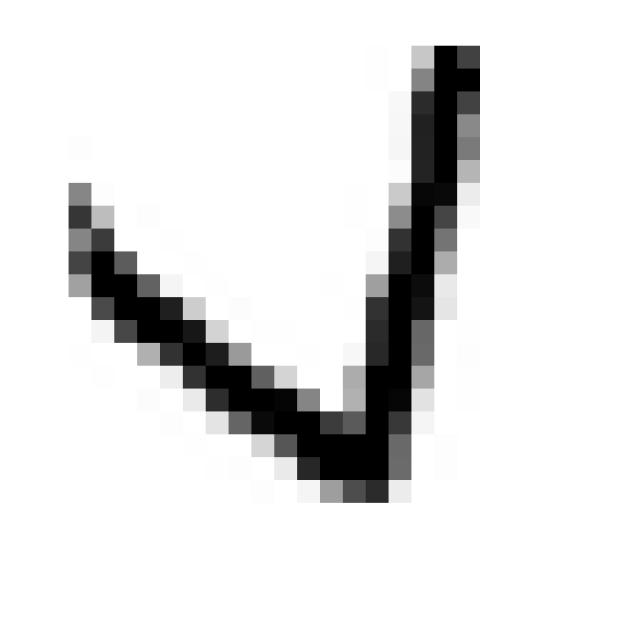7 -seven-: (44, 14, 505, 516)
